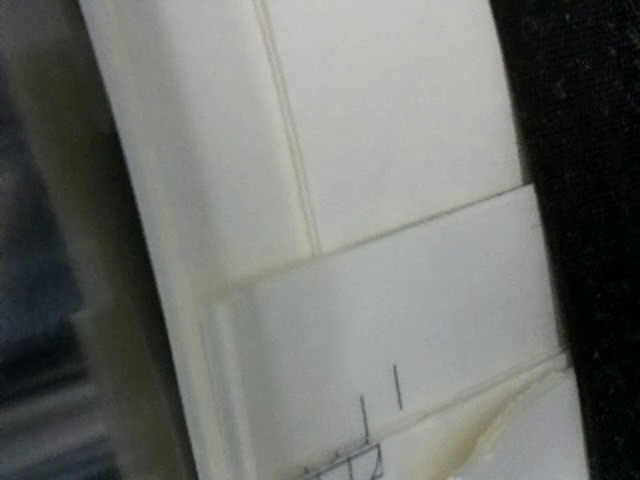not_sure: (299, 396, 388, 480)
